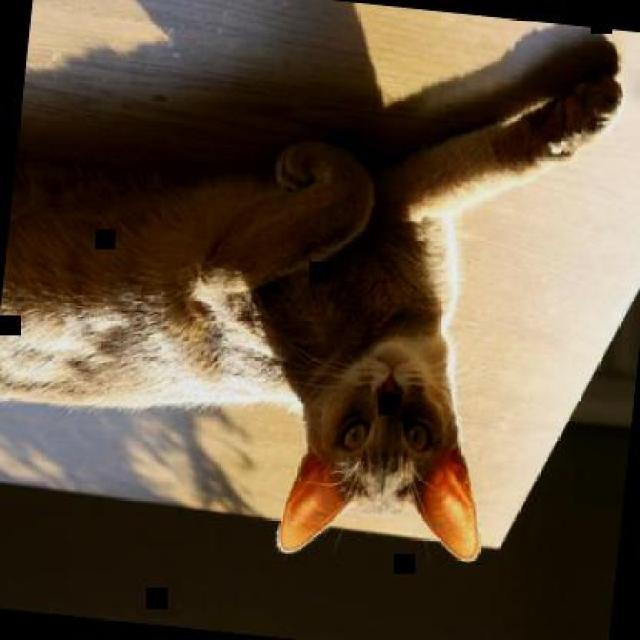cat: (0, 9, 626, 583)
